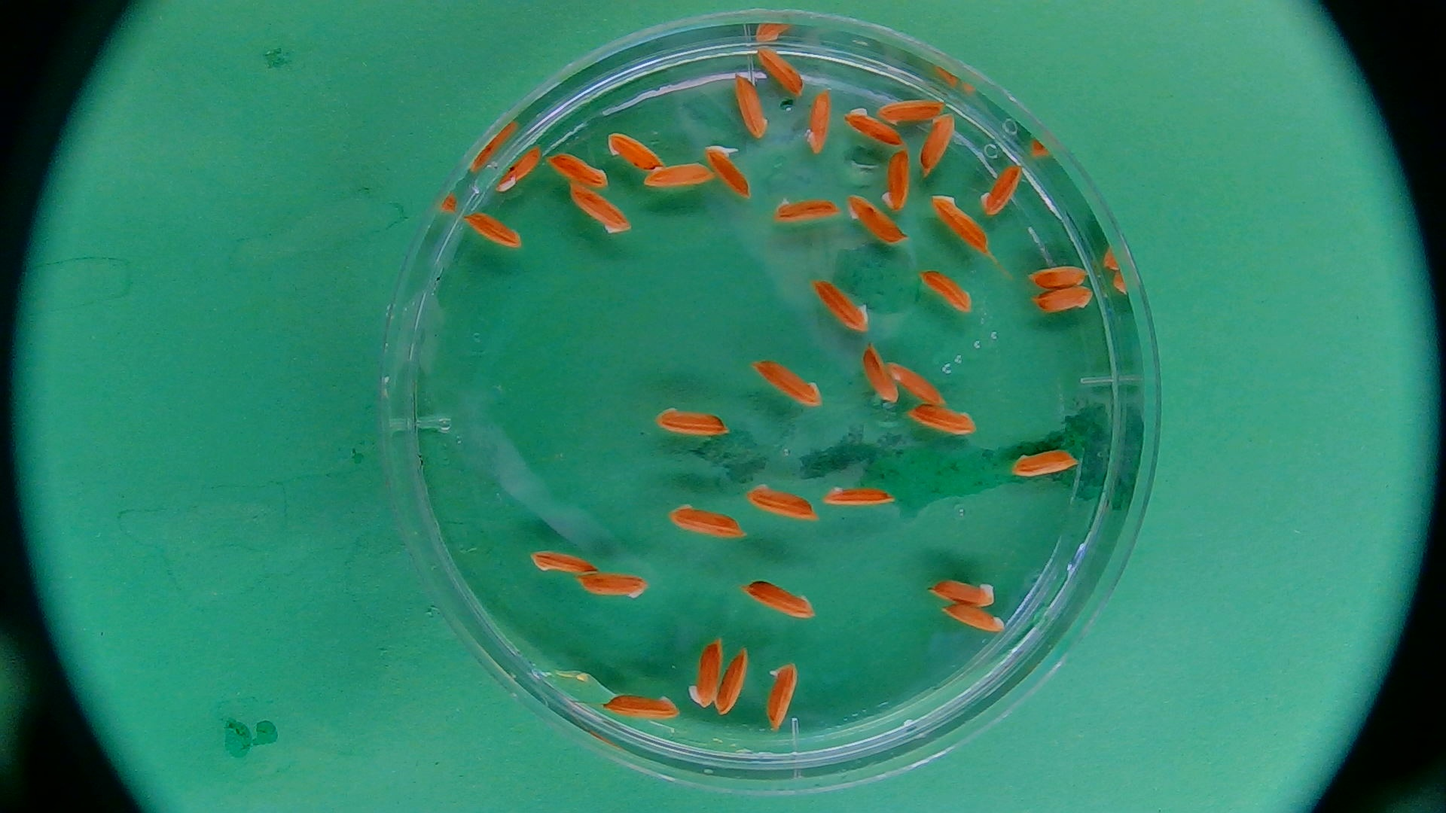no: (835, 187, 913, 248), (935, 187, 995, 259), (807, 279, 876, 341), (563, 181, 636, 239), (760, 354, 826, 413), (604, 117, 667, 178), (838, 99, 905, 155), (752, 38, 814, 98), (748, 479, 822, 529), (814, 479, 910, 516), (682, 635, 728, 710), (602, 691, 691, 728), (634, 156, 719, 194), (911, 268, 978, 316), (732, 73, 780, 139), (743, 578, 817, 620), (462, 203, 526, 251), (1011, 446, 1084, 488), (526, 537, 597, 580), (888, 359, 947, 410), (980, 157, 1028, 219), (670, 504, 752, 540), (799, 93, 837, 169), (762, 660, 801, 733), (859, 341, 901, 408), (574, 564, 650, 601), (877, 149, 918, 216), (1020, 282, 1103, 315), (905, 396, 980, 432), (940, 600, 1011, 638), (929, 575, 998, 611), (552, 153, 611, 194), (767, 193, 844, 223), (657, 405, 728, 437), (493, 149, 543, 194), (1023, 263, 1093, 288)
yes: (706, 145, 758, 198)
